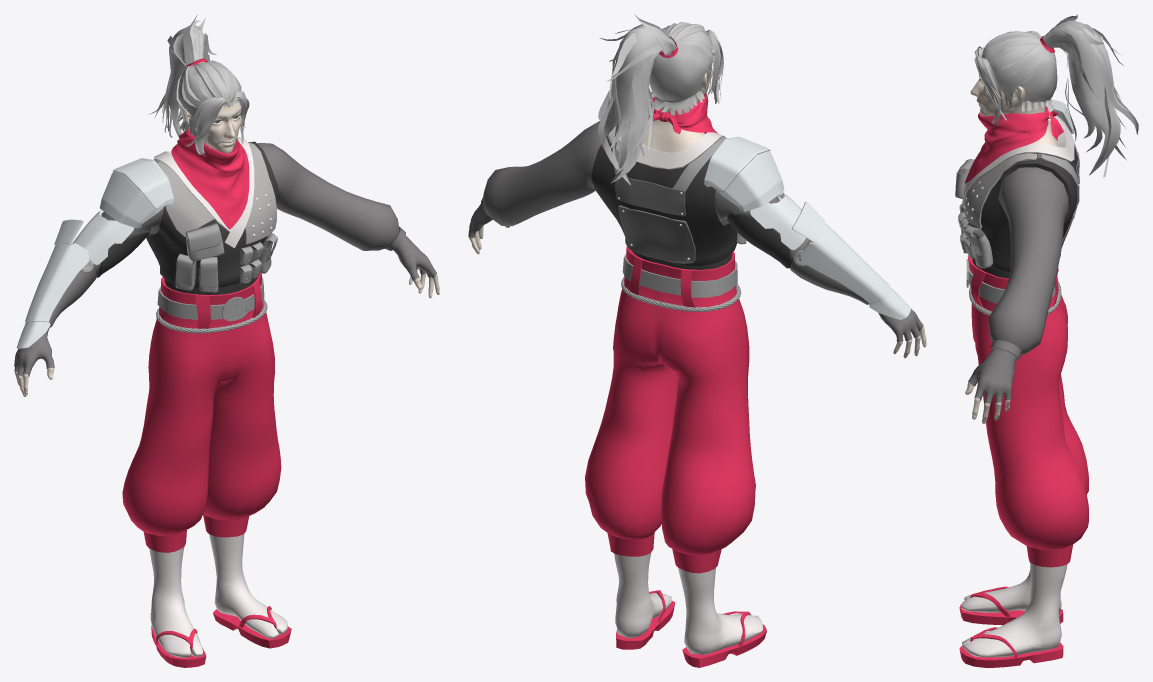
The model's file is Samurai_model_0913.fbx.
The picture shows the model from 3 angles, left to right: view 1: azimuth 30°, elevation 25°; view 2: azimuth 150°, elevation 25°; view 3: azimuth 270°, elevation 25°; orthographic projection. The views are drawn at different scales.
Parts seen in each view (by area): view 1: kuzi, shangyi, weijing1, polySurface97, pCube9, pCube11, socks_L, socks_R, polySurface96, pCube10, hair_front, sam_head_0828 (+3 smaller); view 2: kuzi, shangyi, polySurface97, pCube11, pCube9, polySurface96, socks_L, socks_R, pCube10, polySurface14, sam_head_0828, weijing1 (+2 smaller); view 3: shangyi, kuzi, polySurface97, socks_R, polySurface96, weijing1, shoes_R, socks_L, sam_head_0828, shoes_L, hair_front, hand_R (+1 smaller).
Boxes of the visible parts, x1,y1,x2,y2 form: kuzi: (122,272,281,552); shangyi: (14,137,436,376); weijing1: (171,128,249,229); polySurface97: (148,14,241,137); pCube9: (99,158,174,228); pCube11: (17,219,89,348); socks_L: (149,547,203,657); socks_R: (209,534,287,638); polySurface96: (178,61,241,131); pCube10: (72,209,134,264); hair_front: (185,91,249,156); sam_head_0828: (183,99,241,153); kuzi: (585,246,755,573); shangyi: (468,121,923,342); polySurface97: (598,14,715,185); pCube11: (792,201,910,319); pCube9: (704,136,784,212); polySurface96: (649,23,713,115); socks_L: (678,567,763,654); socks_R: (614,552,671,638); pCube10: (750,192,805,250); polySurface14: (727,212,792,268); sam_head_0828: (642,63,713,152); weijing1: (648,93,718,134); shangyi: (955,115,1079,403); kuzi: (966,256,1088,567); polySurface97: (982,14,1138,177); socks_R: (962,562,1067,657); polySurface96: (983,32,1057,112); weijing1: (965,105,1063,183); shoes_R: (959,627,1063,667); socks_L: (962,567,1061,612); sam_head_0828: (970,74,1059,146); shoes_L: (959,586,1063,625); hair_front: (974,46,1048,125); hand_R: (965,382,1010,423).
Size of the model in its own units: 142 by 196 by 51.39.
